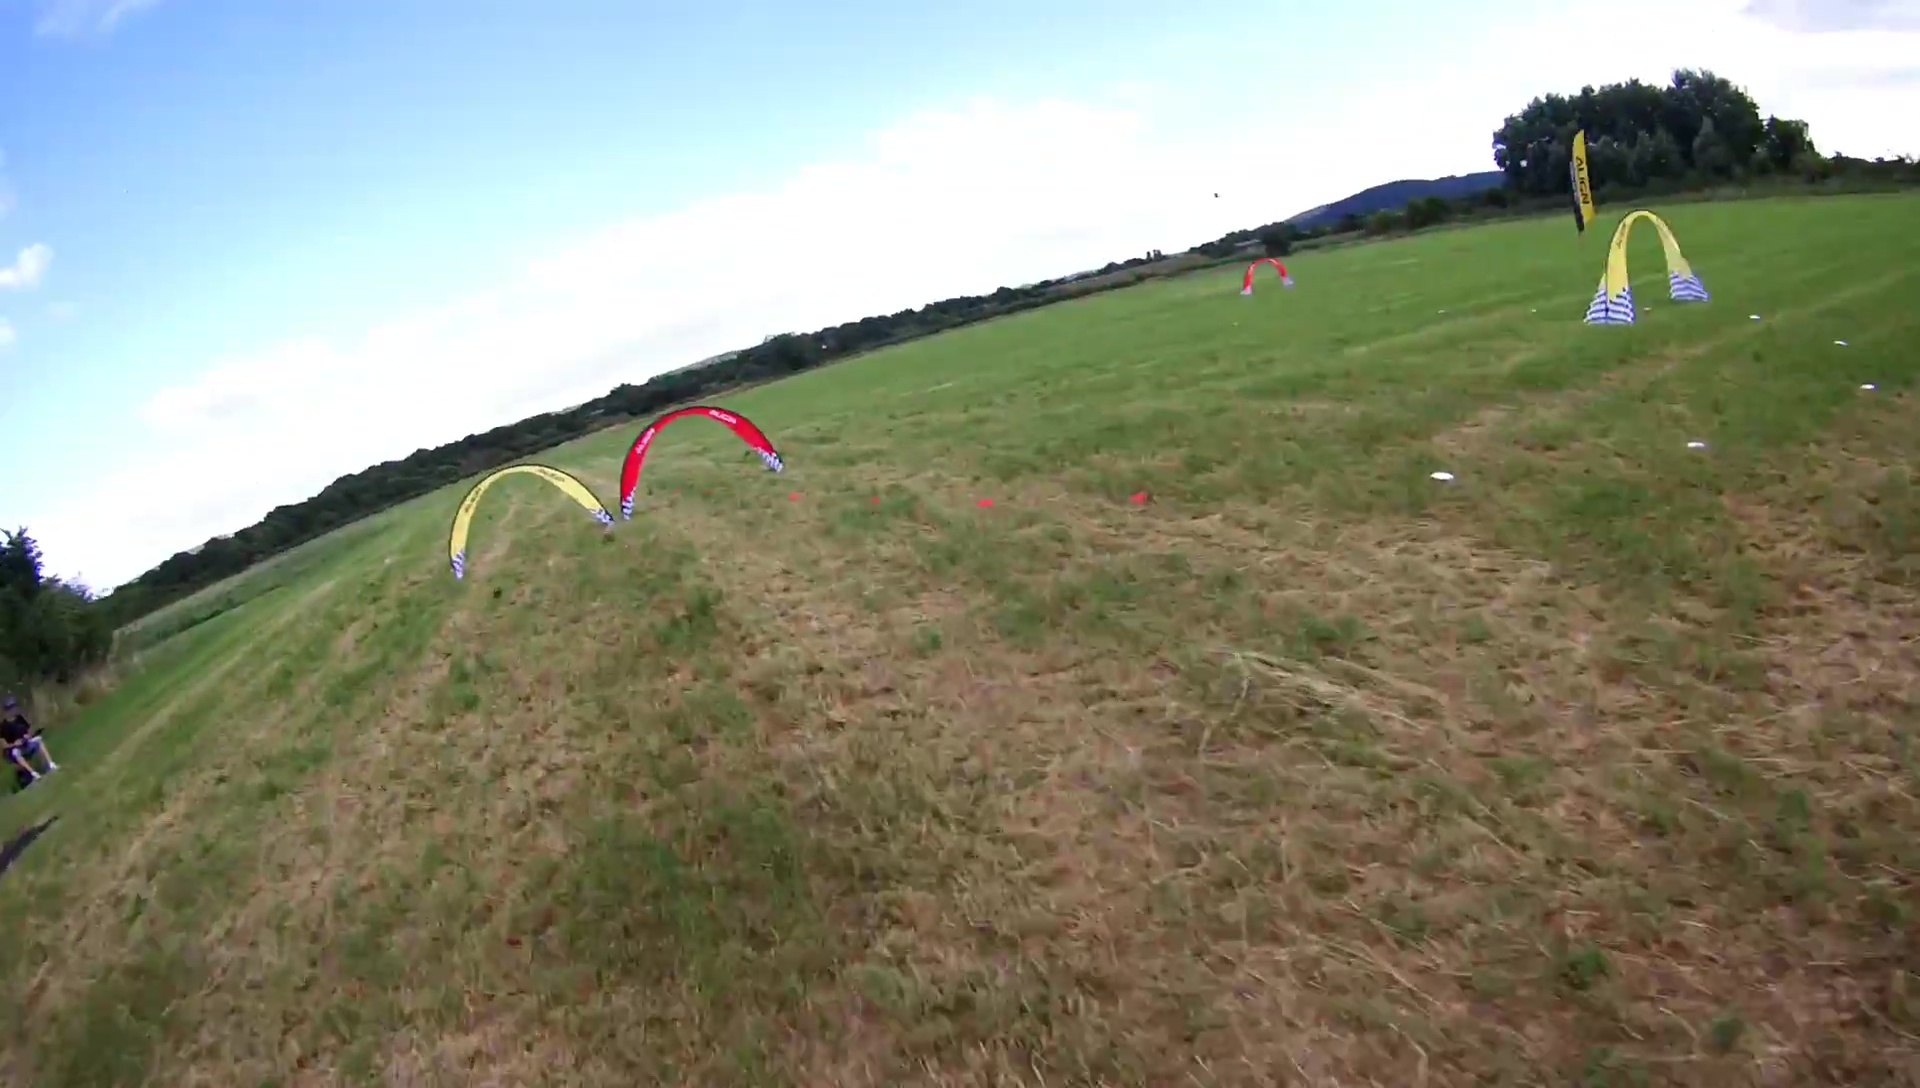gate: (448, 464, 613, 580), (620, 408, 783, 524), (1582, 208, 1706, 326), (1240, 256, 1296, 298)
